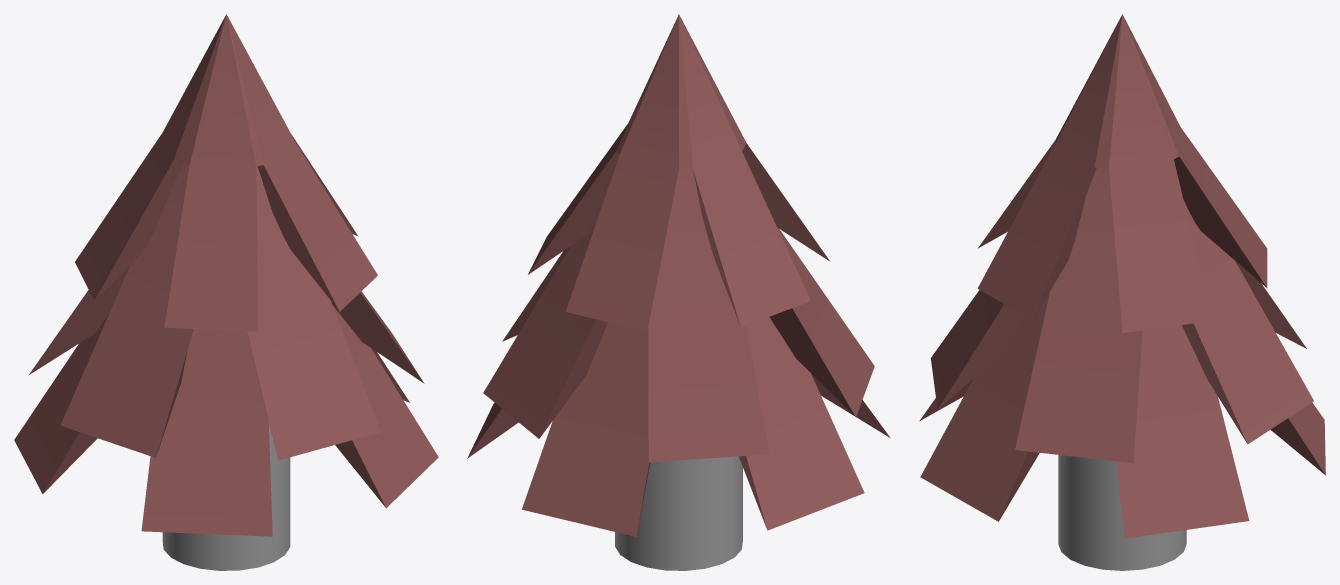
The model's file is Tree6.fbx.
3 views of the same model, side by side, from view 1: azimuth 30°, elevation 25°; view 2: azimuth 150°, elevation 25°; view 3: azimuth 270°, elevation 25° (orthographic).
Visible parts, largest first — view 1: pCone1, pCone2, pCone3, pCylinder1; view 2: pCone2, pCone1, pCone3, pCylinder1; view 3: pCone2, pCone1, pCone3, pCylinder1.
Boxes of the visible parts, x1,y1,x2,y2 form: pCone1: [75, 14, 377, 331]; pCone2: [29, 163, 424, 460]; pCone3: [14, 305, 438, 536]; pCylinder1: [162, 422, 290, 570]; pCone2: [483, 169, 874, 462]; pCone1: [528, 14, 830, 331]; pCone3: [467, 317, 890, 536]; pCylinder1: [615, 456, 742, 570]; pCone2: [930, 167, 1313, 463]; pCone1: [977, 14, 1267, 332]; pCone3: [919, 292, 1325, 538]; pCylinder1: [1058, 455, 1186, 570].
Bounding box in the file's own units: 6.07 × 8.32 × 5.79.
